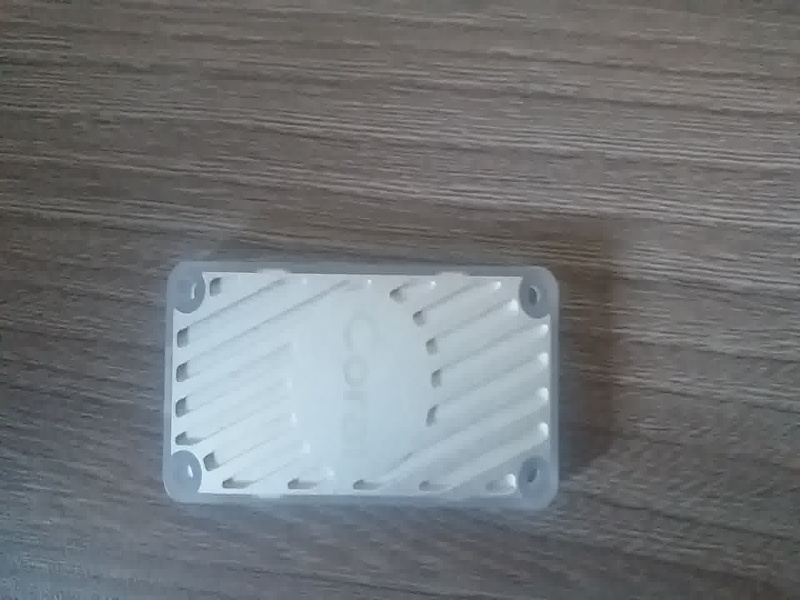coral: (150, 252, 571, 512)
